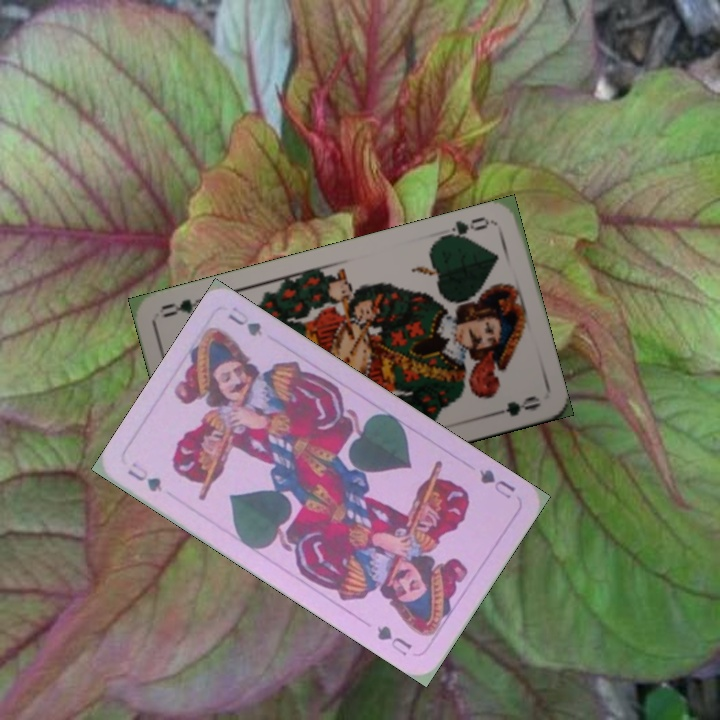GO: (437, 212, 495, 242)
GU: (475, 464, 518, 502), (123, 458, 165, 495)
